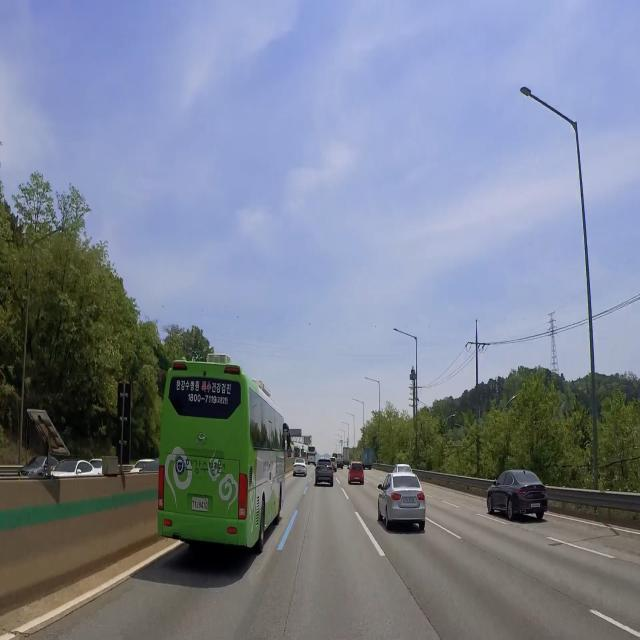car: (190, 492, 211, 515), (400, 493, 418, 510), (528, 501, 544, 512), (320, 466, 330, 477), (295, 467, 304, 476), (353, 476, 363, 483)
